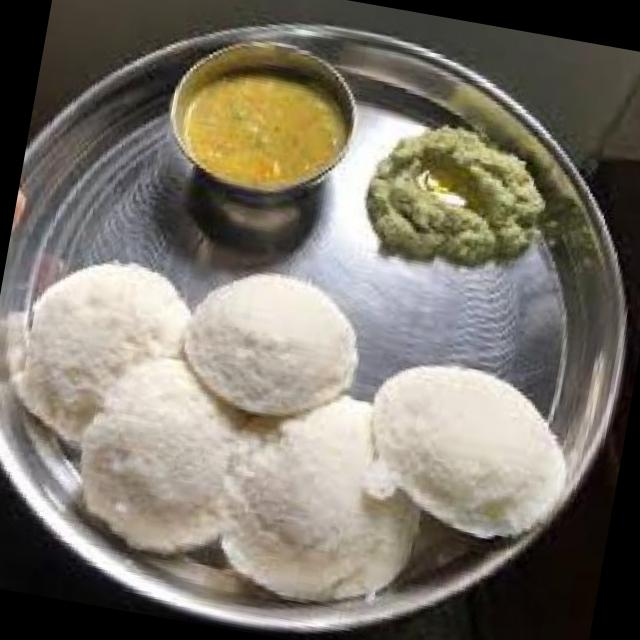idli: (206, 378, 436, 617), (68, 346, 265, 567), (356, 355, 578, 548), (0, 246, 196, 464), (176, 262, 368, 428)
